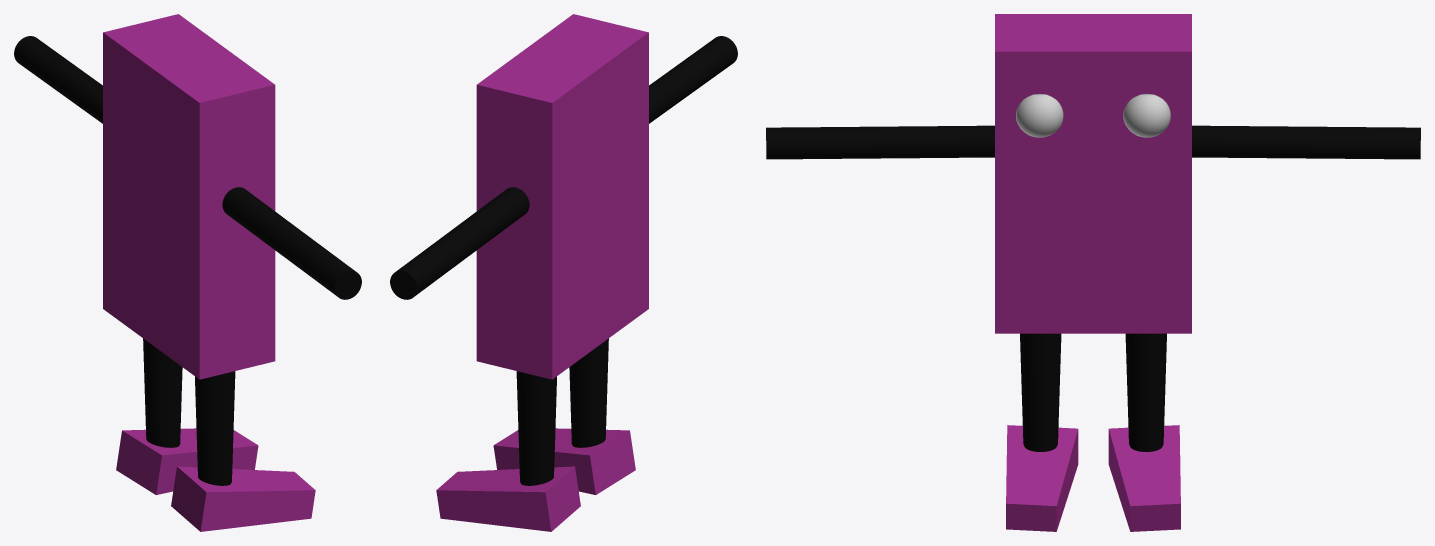
Rendered from mob1.obj.
3 views of the same model, side by side, from view 1: azimuth 30°, elevation 25°; view 2: azimuth 150°, elevation 25°; view 3: azimuth 270°, elevation 25° (orthographic). The views are drawn at different scales.
Parts seen in each view (by area): view 1: Cube, Cube.001, Cylinder.002, Cylinder.001; view 2: Cube, Cube.001, Cylinder.002, Cylinder.001; view 3: Cube, Cylinder.002, Cube.001, Cylinder.001, Sphere.
Boxes of the visible parts, <box> form: Cube: <box>103,14,275,379</box>; Cube.001: <box>116,428,315,531</box>; Cylinder.002: <box>14,36,361,299</box>; Cylinder.001: <box>143,338,235,485</box>; Cube: <box>476,14,648,379</box>; Cube.001: <box>436,428,635,531</box>; Cylinder.002: <box>390,36,737,299</box>; Cylinder.001: <box>516,338,608,485</box>; Cube: <box>995,14,1191,333</box>; Cylinder.002: <box>766,125,1420,159</box>; Cube.001: <box>1006,425,1180,531</box>; Cylinder.001: <box>1020,333,1166,451</box>; Sphere: <box>1016,93,1170,137</box>.
Size of the model in its own units: 1.77 by 6.06 by 7.85.
